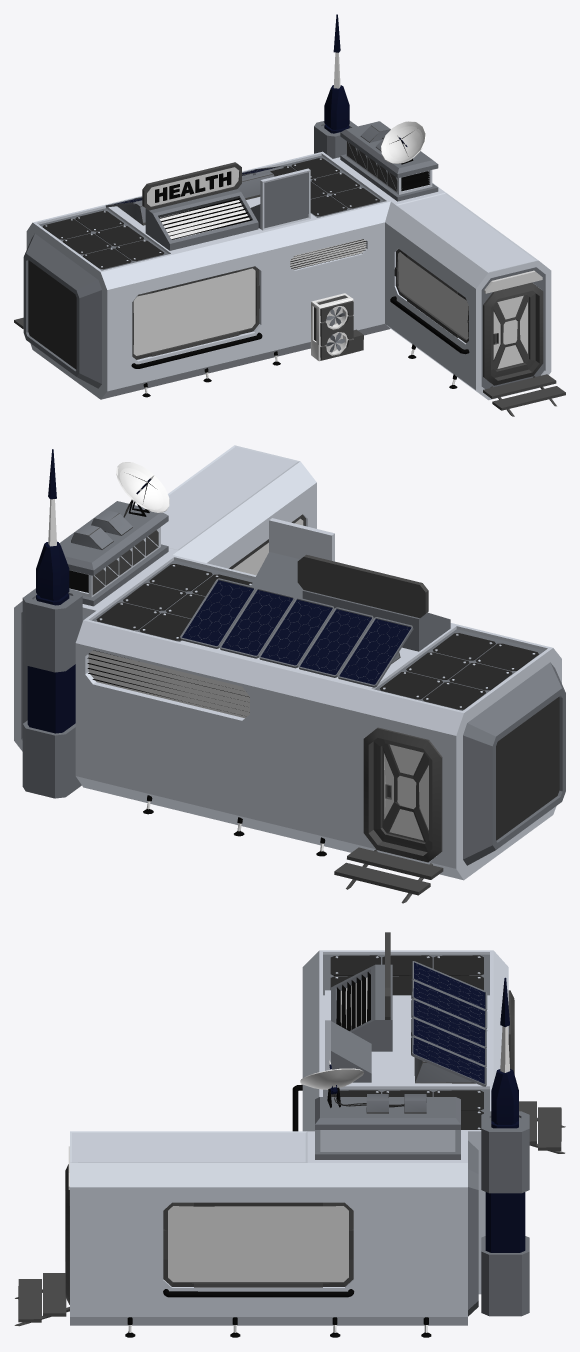
Rendered from Healt Decimated.fbx.
3 views of the same model, one above another, from view 1: azimuth 30°, elevation 25°; view 2: azimuth 150°, elevation 25°; view 3: azimuth 270°, elevation 25° (orthographic). The views are drawn at different scales.
Visible parts, largest first — view 1: Cube.003; view 2: Cube.003; view 3: Cube.003.
Boxes of the visible parts, x1,y1,x2,y2 form: Cube.003: (14,14,565,416); Cube.003: (14,445,565,903); Cube.003: (14,932,565,1337).
Bounding box in the file's own units: 4.86 × 3.19 × 4.84.
